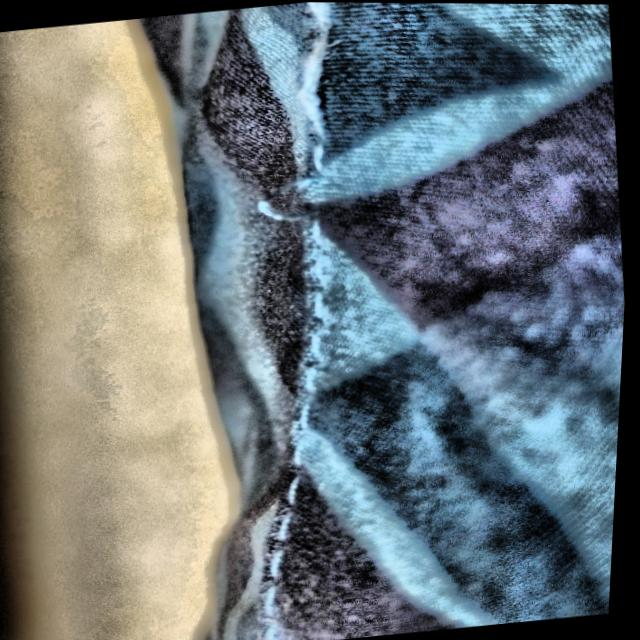Stitch: (220, 127, 362, 260)
